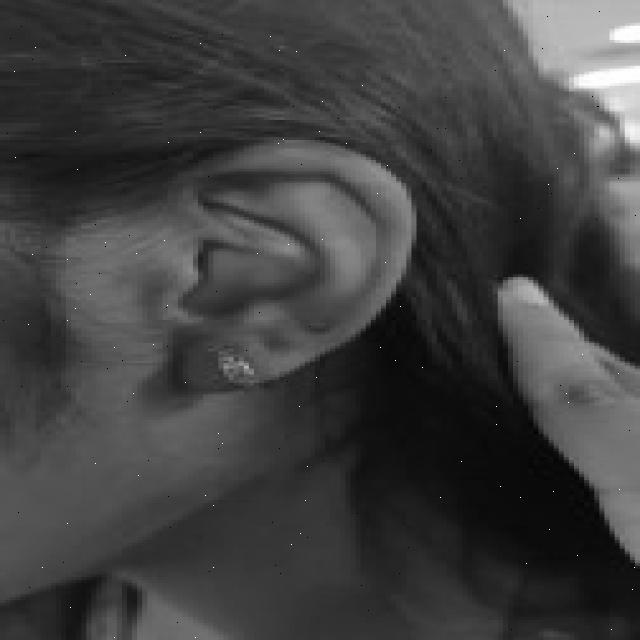ear: (168, 140, 411, 386)
